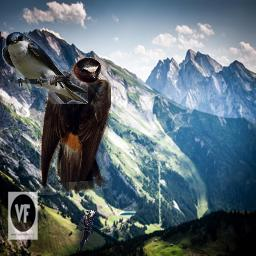Swallow: (39, 57, 111, 195), (2, 32, 88, 104)
Woodpecker: (76, 208, 96, 253)
